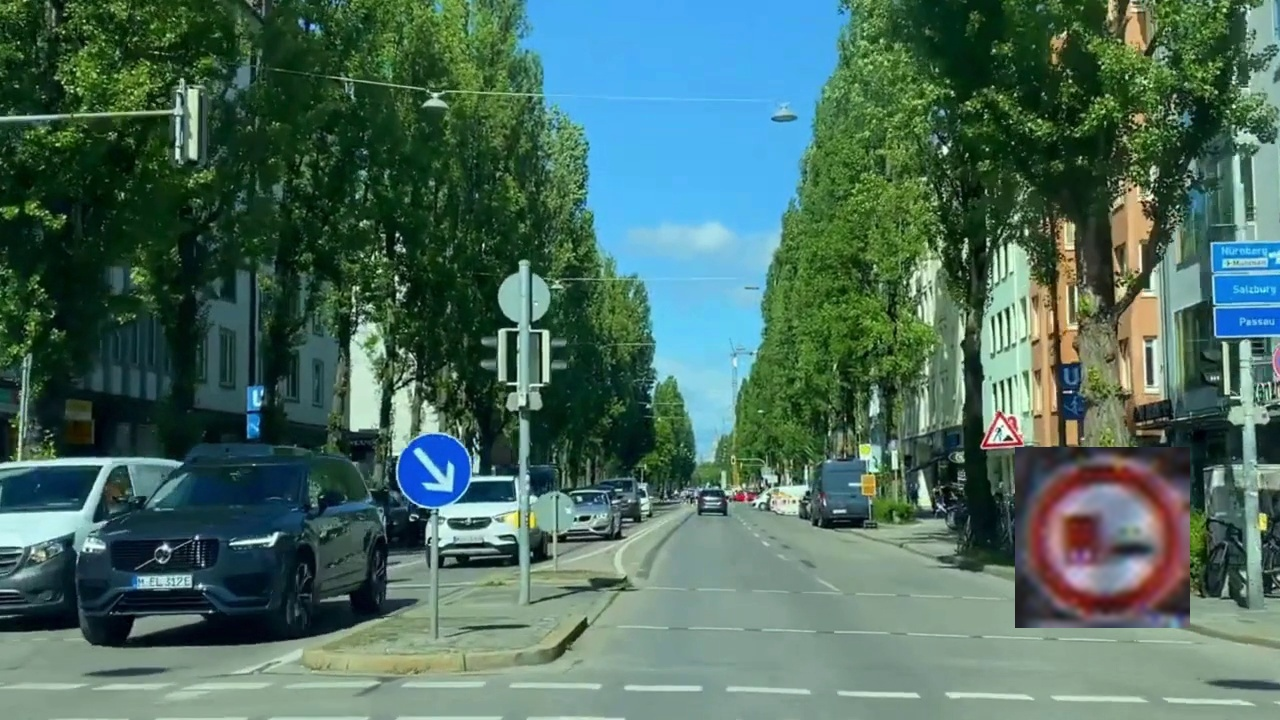No pass >3.5t: (1015, 447, 1190, 628)
